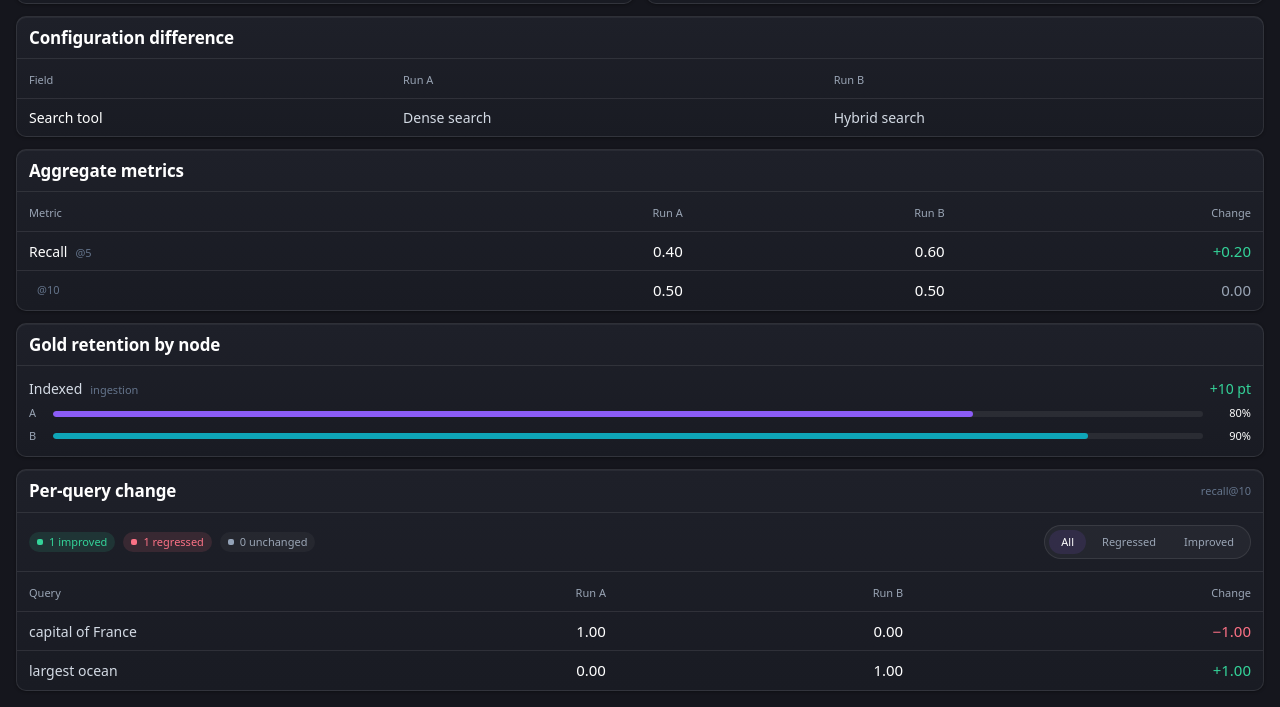
RunComparison › filters the query table down to the regressions
The image size is (1280, 707).
(page scrolled)
Check: the text "largest ocean" is shown, box [29,660,118,681]
Click the button "Regressed" at (1129, 542), box [1090,530,1168,554]
(page scrolled)
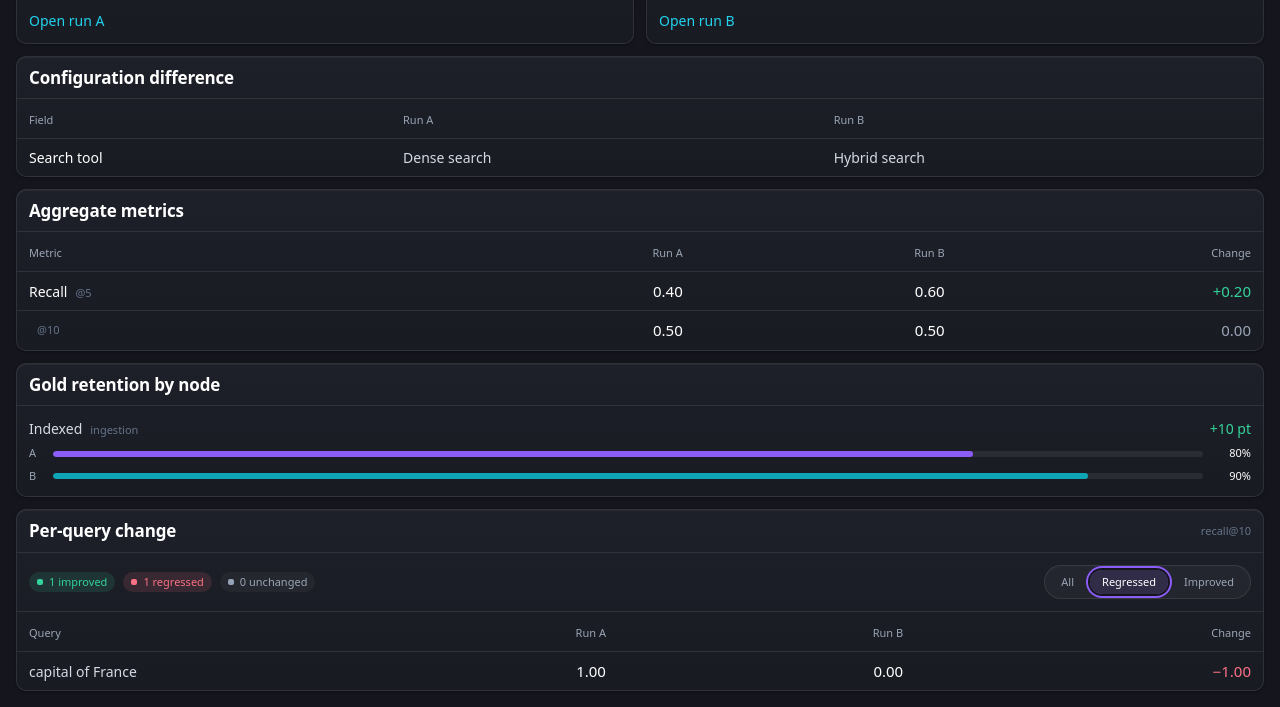
Check: the text "capital of France" is shown, box [29,660,137,682]
Check: the text "largest ocean" is gone
